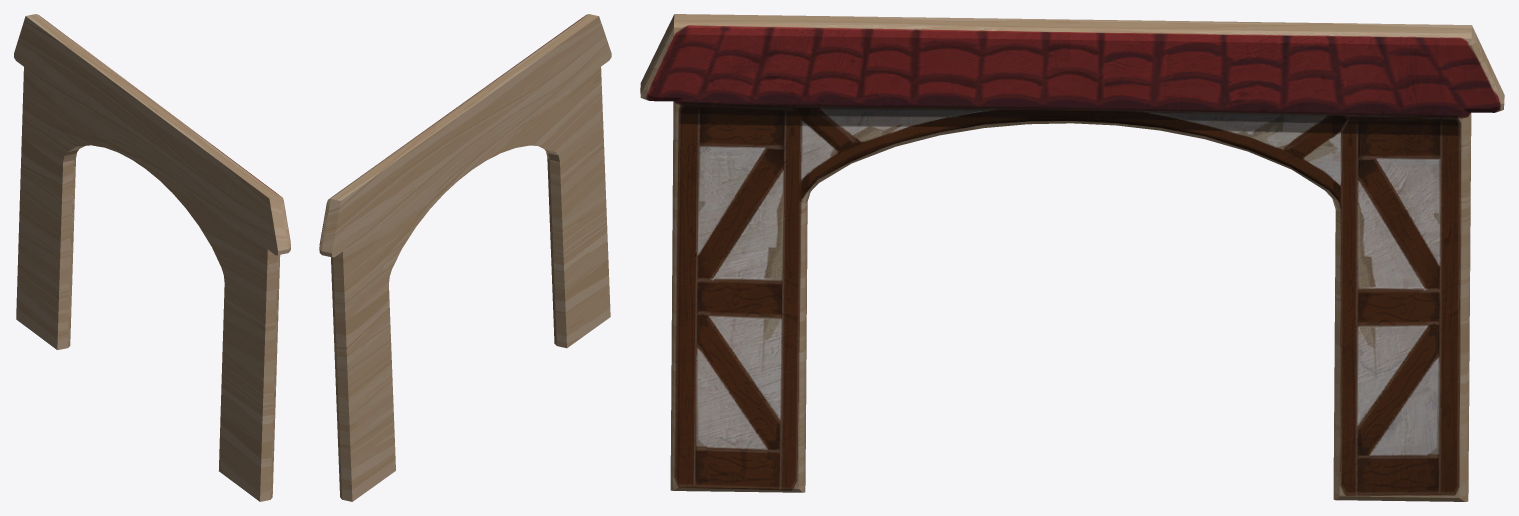
Rendered from arch.glb.
3 views of the same model, side by side, from view 1: azimuth 30°, elevation 25°; view 2: azimuth 150°, elevation 25°; view 3: azimuth 270°, elevation 25° (orthographic). The views are drawn at different scales.
Parts seen in each view (by area): view 1: Archway; view 2: Archway; view 3: Archway.
Part boxes in pixels (left/top/right/bottom): Archway: left=14, top=14, right=290, bottom=501; Archway: left=319, top=14, right=611, bottom=501; Archway: left=640, top=14, right=1504, bottom=501.
Bounding box in the file's own units: 0.3837 × 3.43 × 5.58.
1 material, 1 textured.
